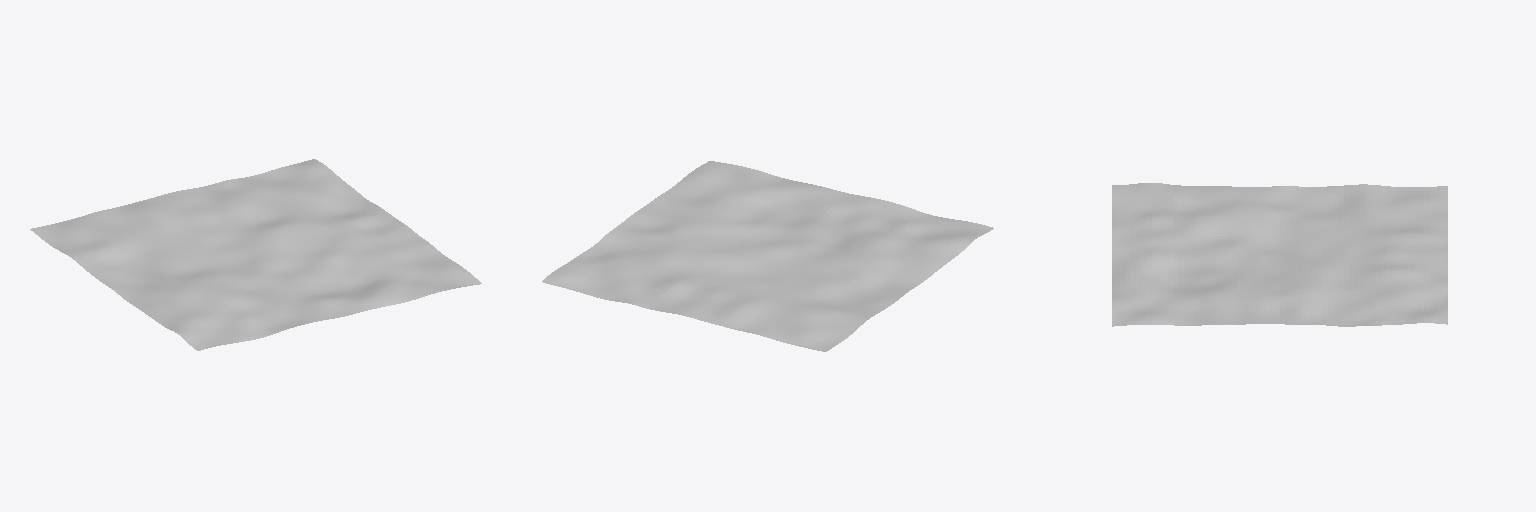
The model's file is ground_small.obj.
3 renders of one model, left to right at view 1: azimuth 30°, elevation 25°; view 2: azimuth 150°, elevation 25°; view 3: azimuth 270°, elevation 25°, orthographic.
Parts seen in each view (by area): view 1: 4.001; view 2: 4.001; view 3: 4.001.
Boxes of the visible parts, <box> form: 4.001: <box>30,159,481,350</box>; 4.001: <box>542,161,993,351</box>; 4.001: <box>1112,183,1447,326</box>.
Bounding box in the file's own units: 83.11 × 2.18 × 85.08.